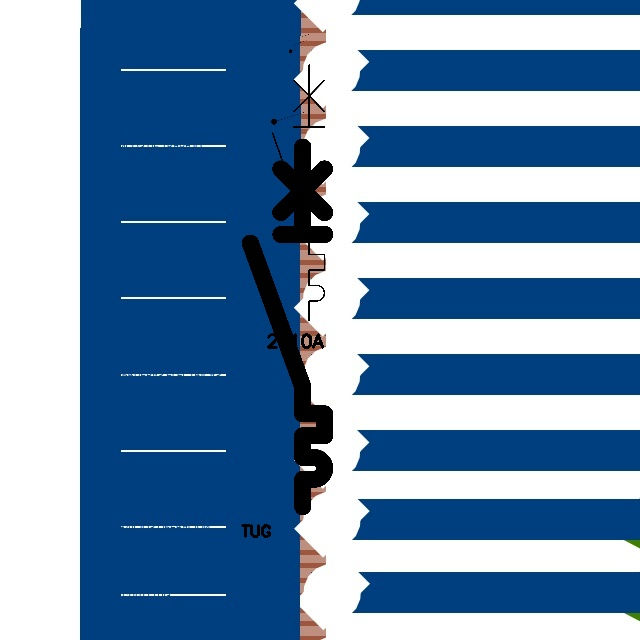interruptor_termomagnetico: (241, 137, 334, 516), (266, 58, 331, 326)
